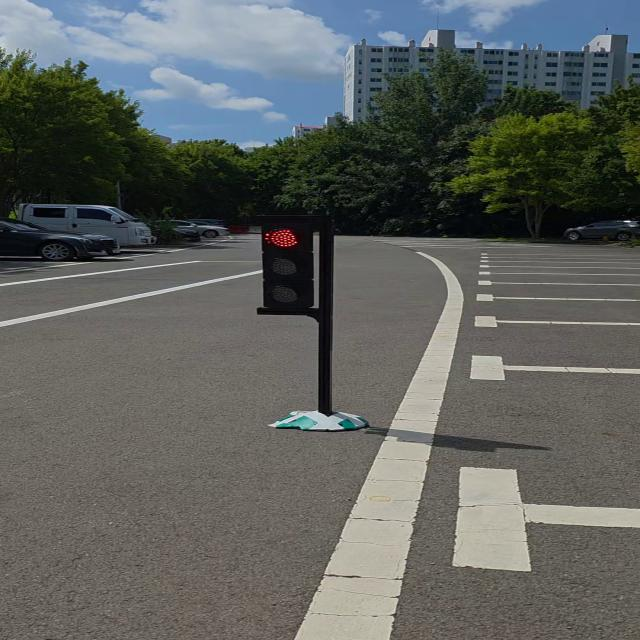red: (258, 222, 329, 315)
